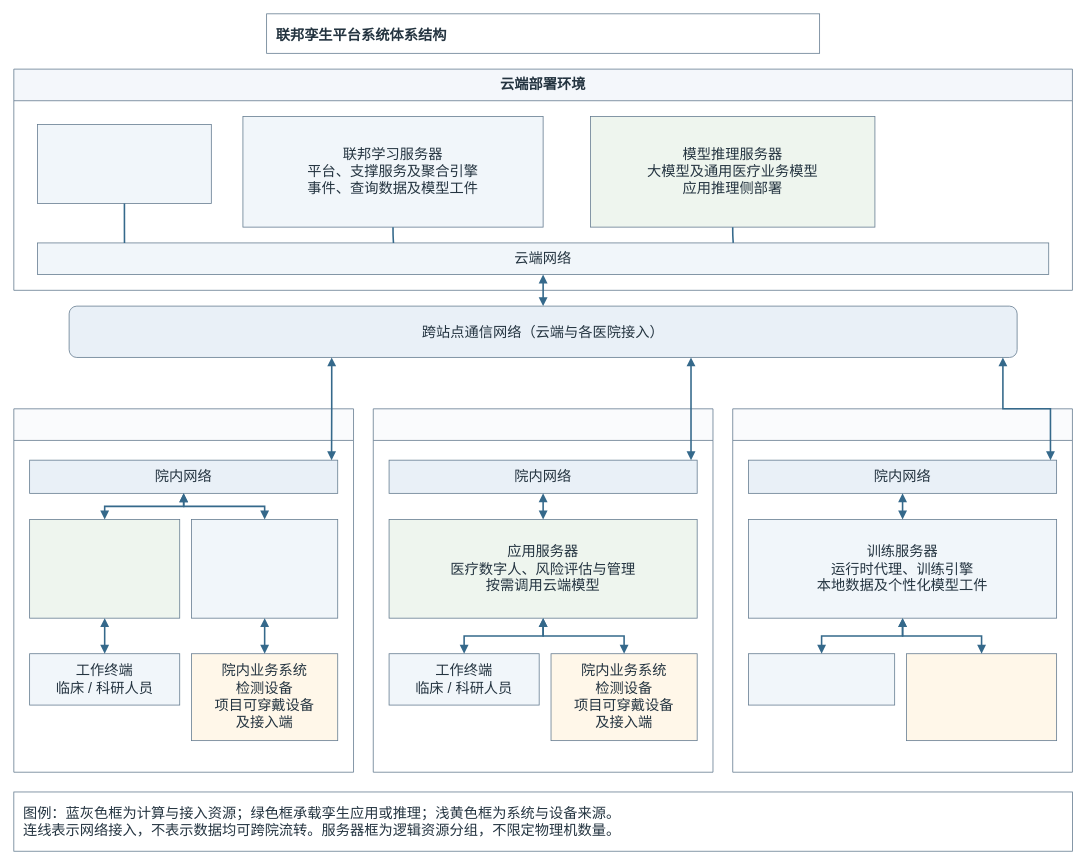
This 1086x865 diagram has some shape labels left out. The box of each missing label's shape, as (x1, y1, x2, y2) in pixels:
医院 A：孪生应用 + 联邦训练: (13, 408, 354, 772)
医院 B：仅孪生应用: (372, 408, 713, 772)
医院 C：仅联邦训练: (732, 408, 1072, 772)
平台管理终端 浏览器访问: (37, 124, 211, 203)
应用服务器 医疗数字人 风险评估与管理 本院个性化推理: (29, 519, 180, 618)
训练服务器 代理与训练引擎 本地数据 个性化模型: (191, 519, 338, 618)
运维与科研终端 本地节点管理: (748, 653, 895, 705)
院内业务系统 授权本地训练数据: (906, 653, 1057, 741)
